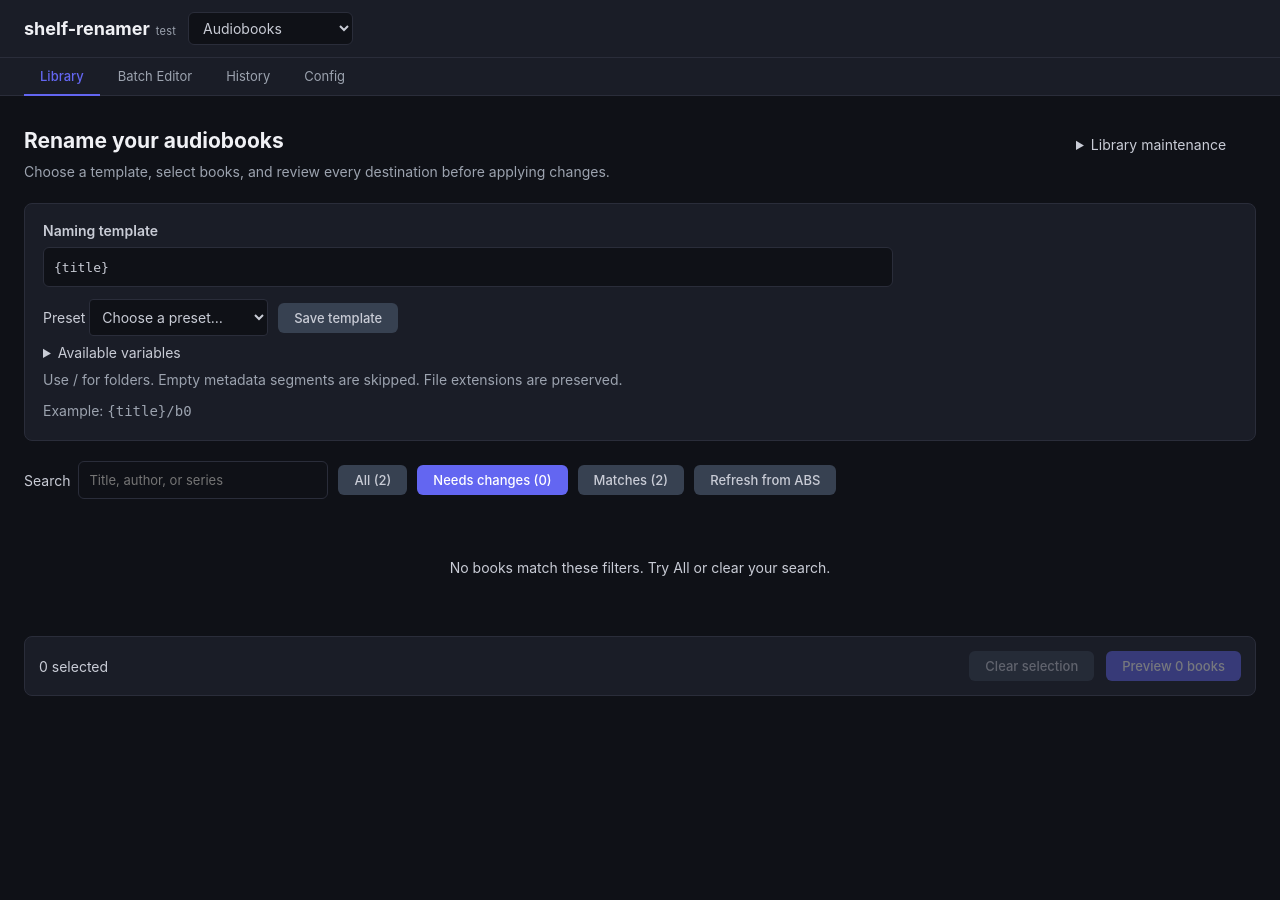
it: library workflow › keeps hidden selections visible in the count and selects only visible rows
Check: the button "Matches (2)" is shown, box [578,465,684,495]
Click the button "All (2)".
click(373, 480)  # box [338,465,407,495]
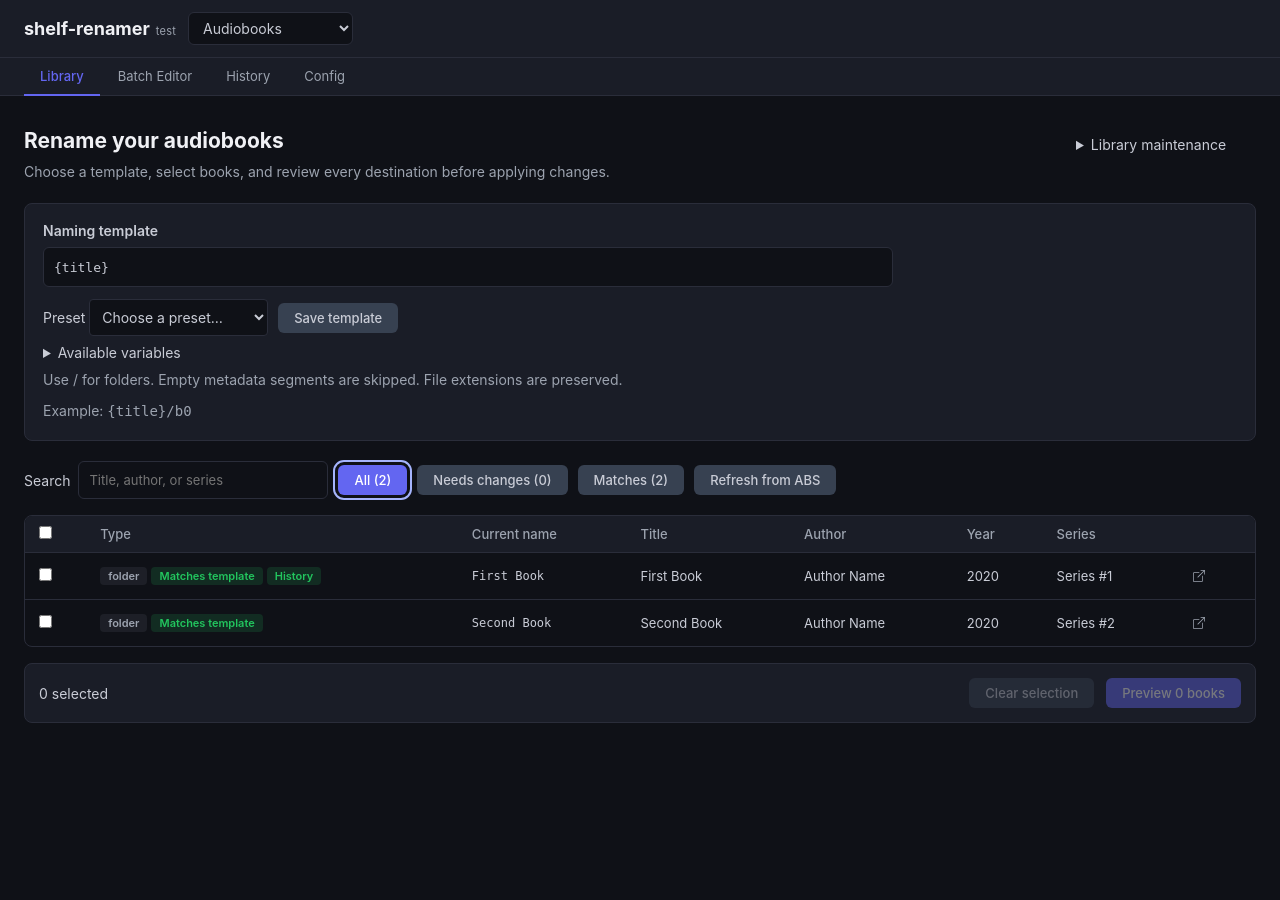
Click the checkbox named "Select First Book".
click(46, 575)  # box [39,568,52,581]
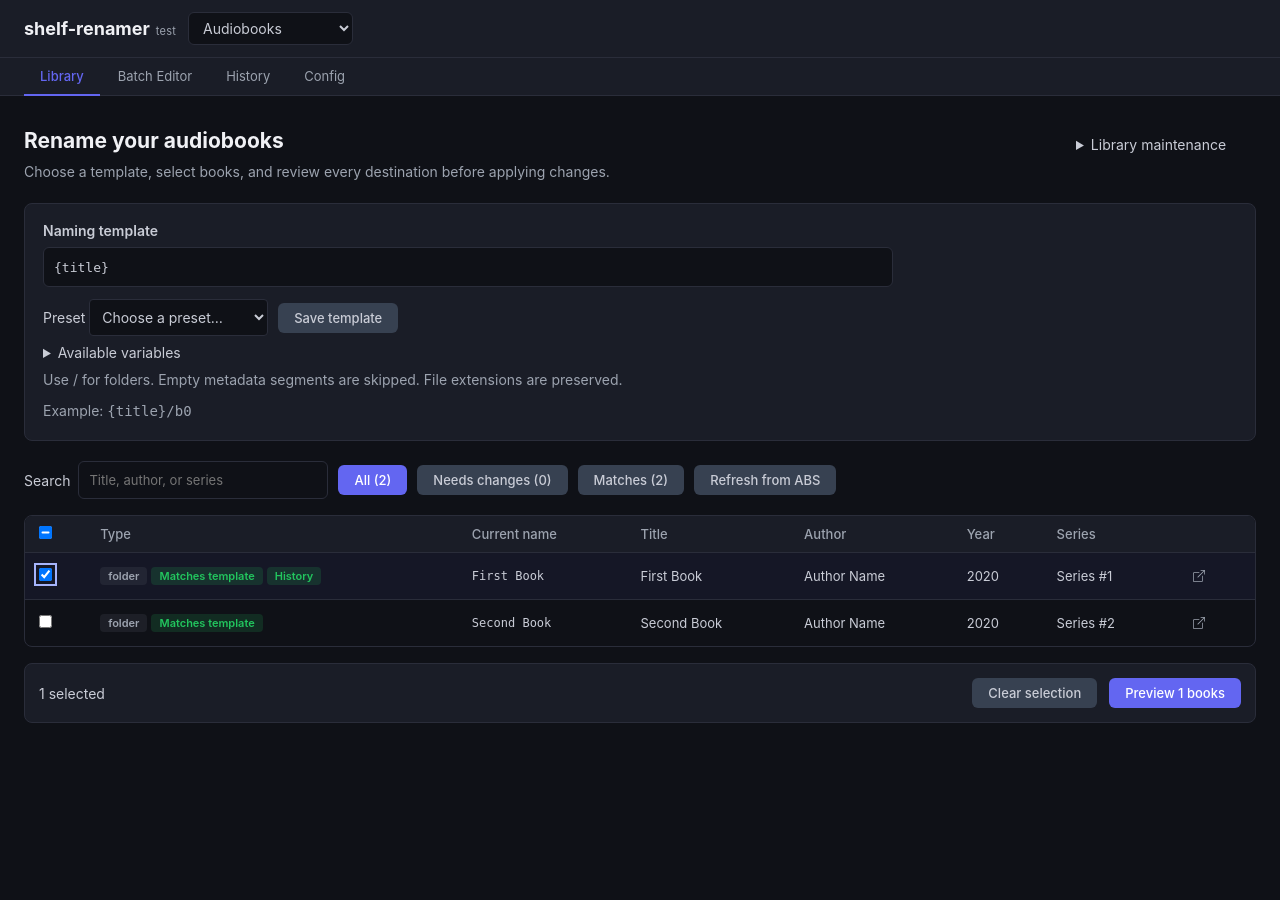
Type "Second" into the search field.
click(204, 480); type("Second")  # box [78,461,328,499]
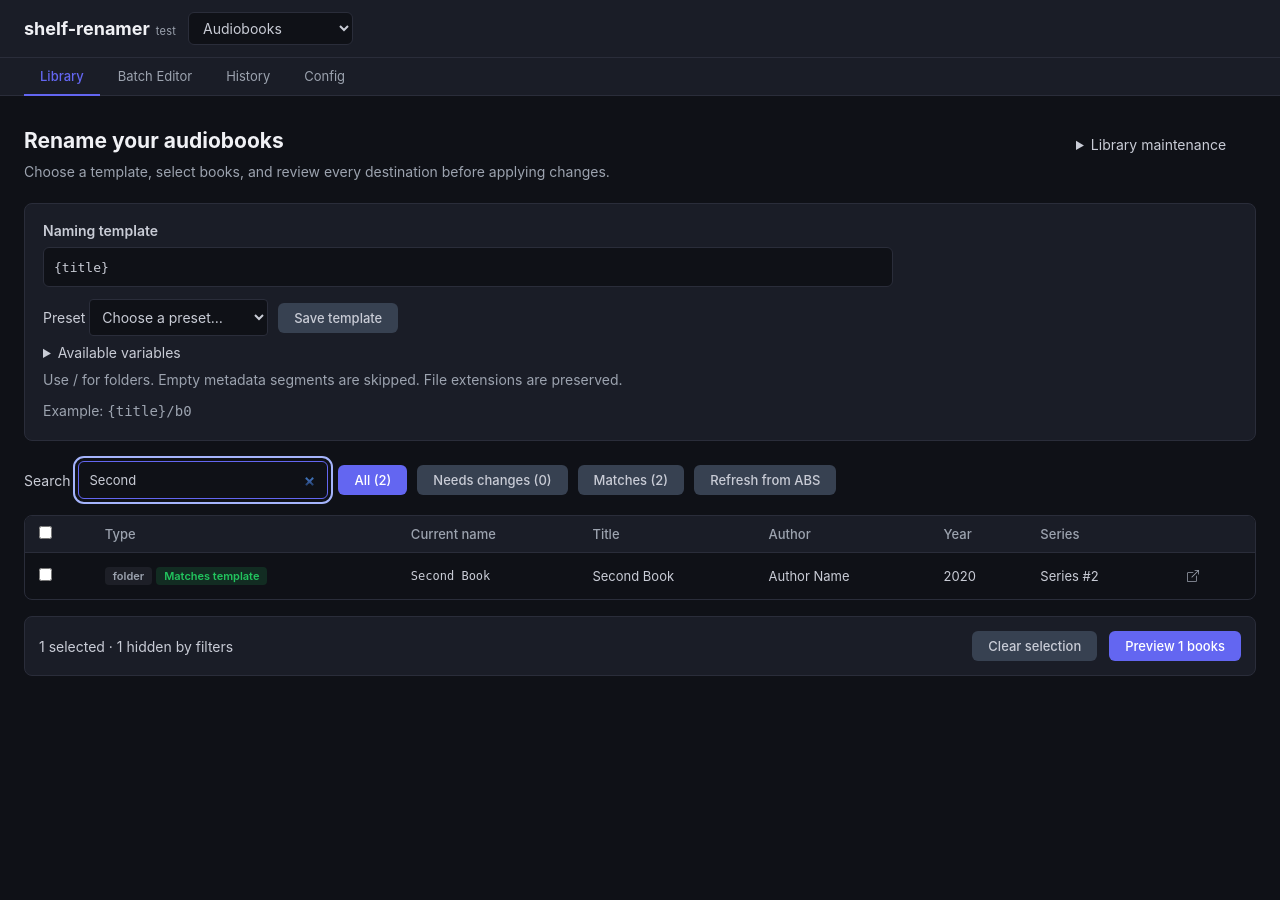
Check: the checkbox named "Select all visible books" is not checked
Check: the text "1 selected · 1 hidden by filters" is shown, box [39,638,233,655]
Click the checkbox named "Select all visible books".
click(46, 533)  # box [39,526,52,539]
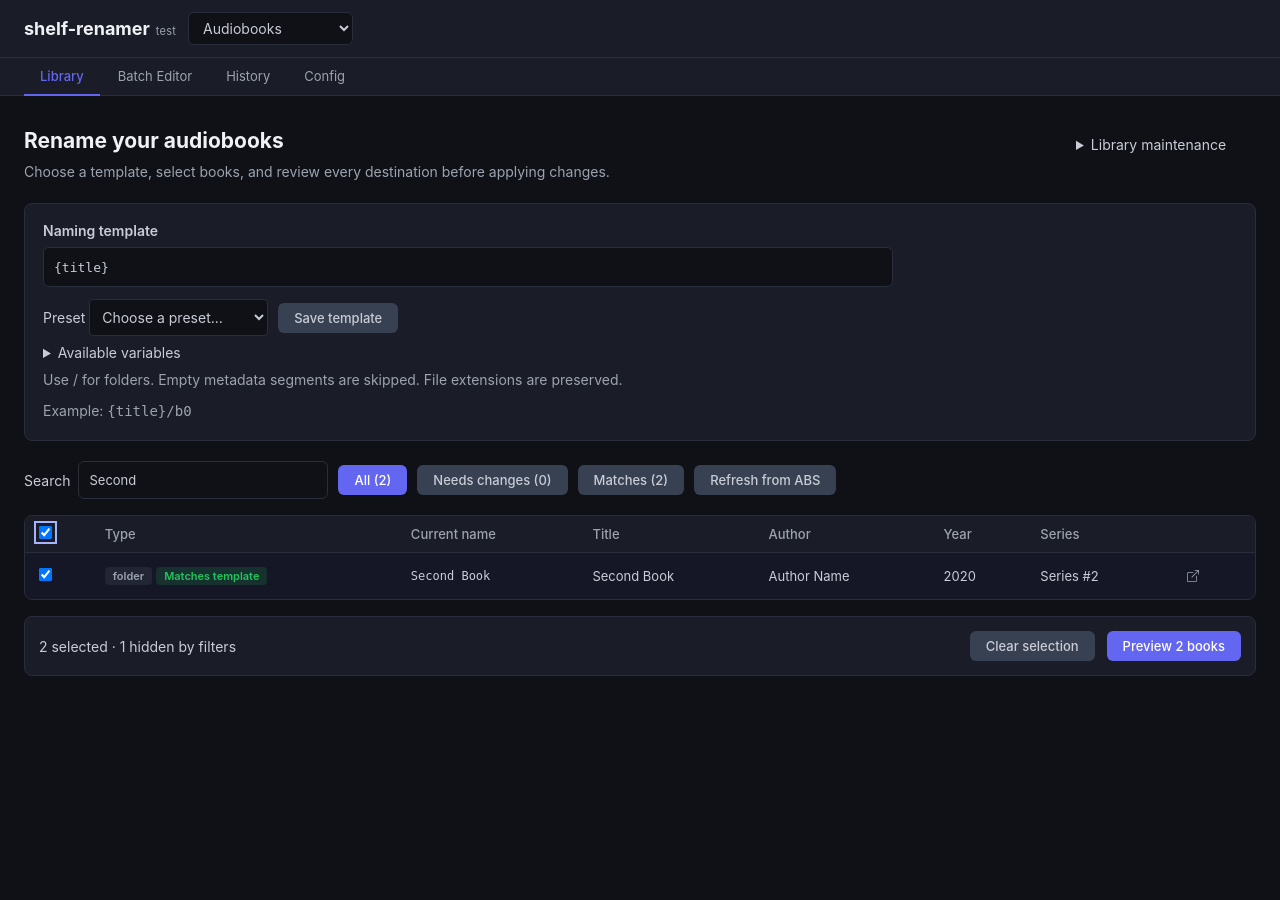
Check: the text "2 selected · 1 hidden by filters" is shown, box [39,638,236,655]
Click the button "Clear selection".
click(1032, 646)  # box [970,631,1095,661]
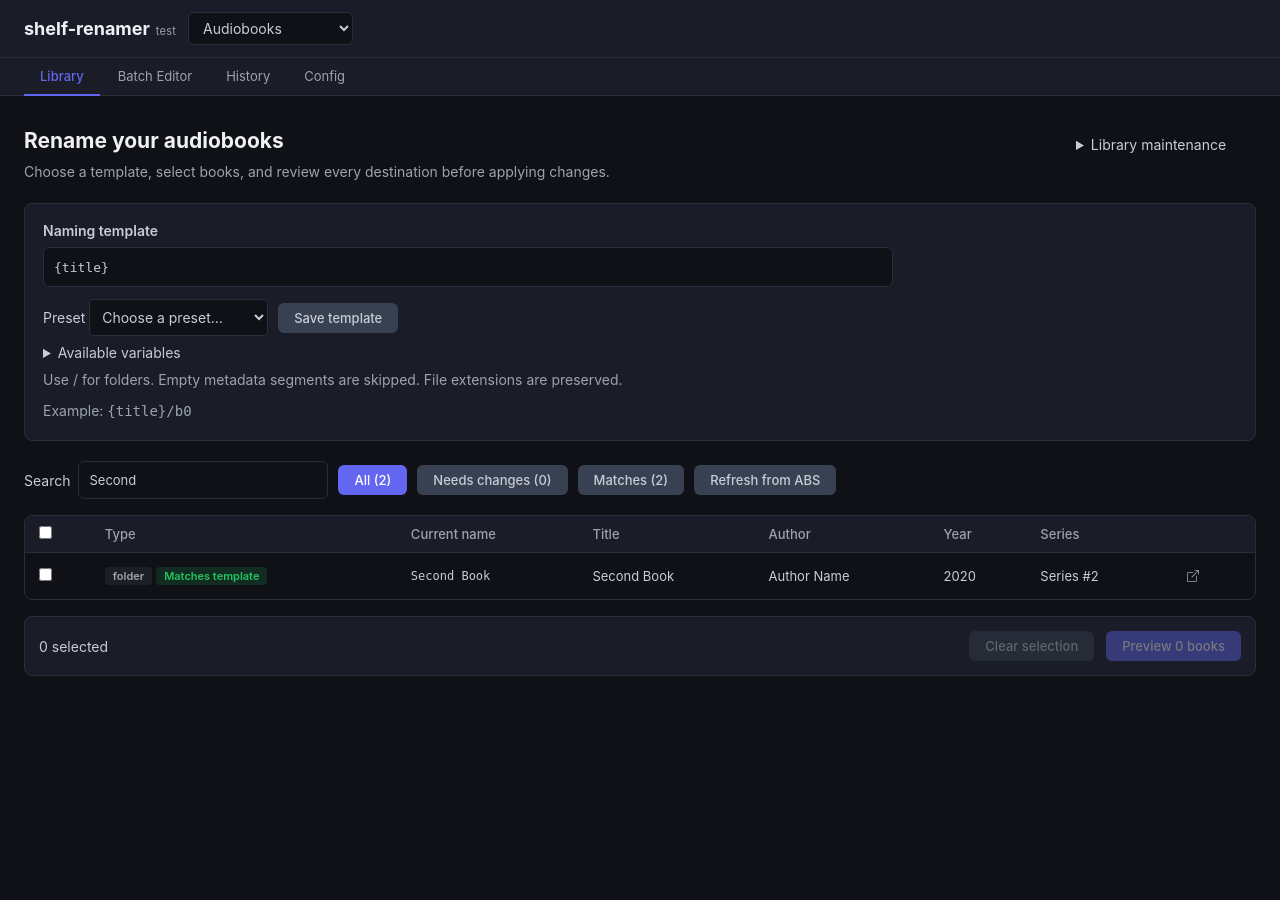
Check: the text "0 selected" is shown, box [39,638,108,655]
